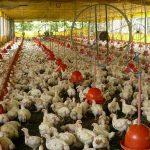chicken: (21, 128, 43, 149), (44, 134, 69, 150), (110, 113, 129, 134), (40, 109, 60, 124), (120, 99, 137, 116), (92, 123, 114, 136), (64, 119, 83, 131), (93, 135, 110, 148), (91, 99, 103, 117), (107, 97, 120, 113), (71, 104, 83, 119), (67, 85, 76, 98)
